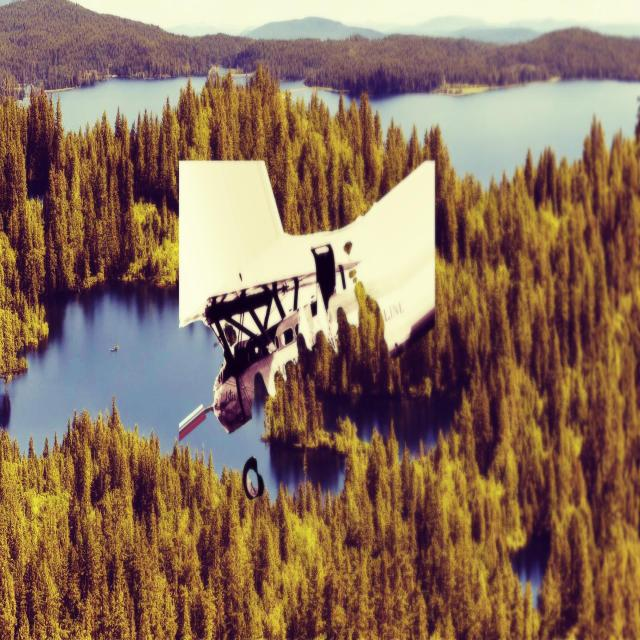airplane: (177, 156, 436, 441)
